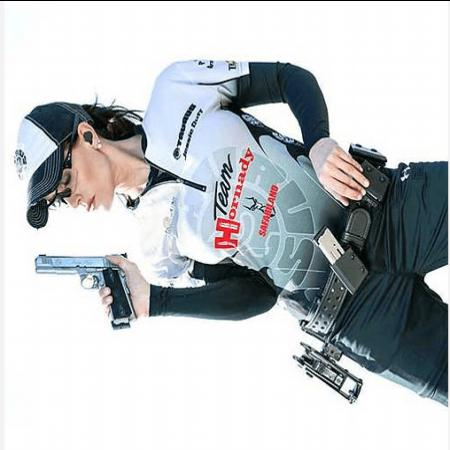Pistol: (32, 241, 133, 352)
